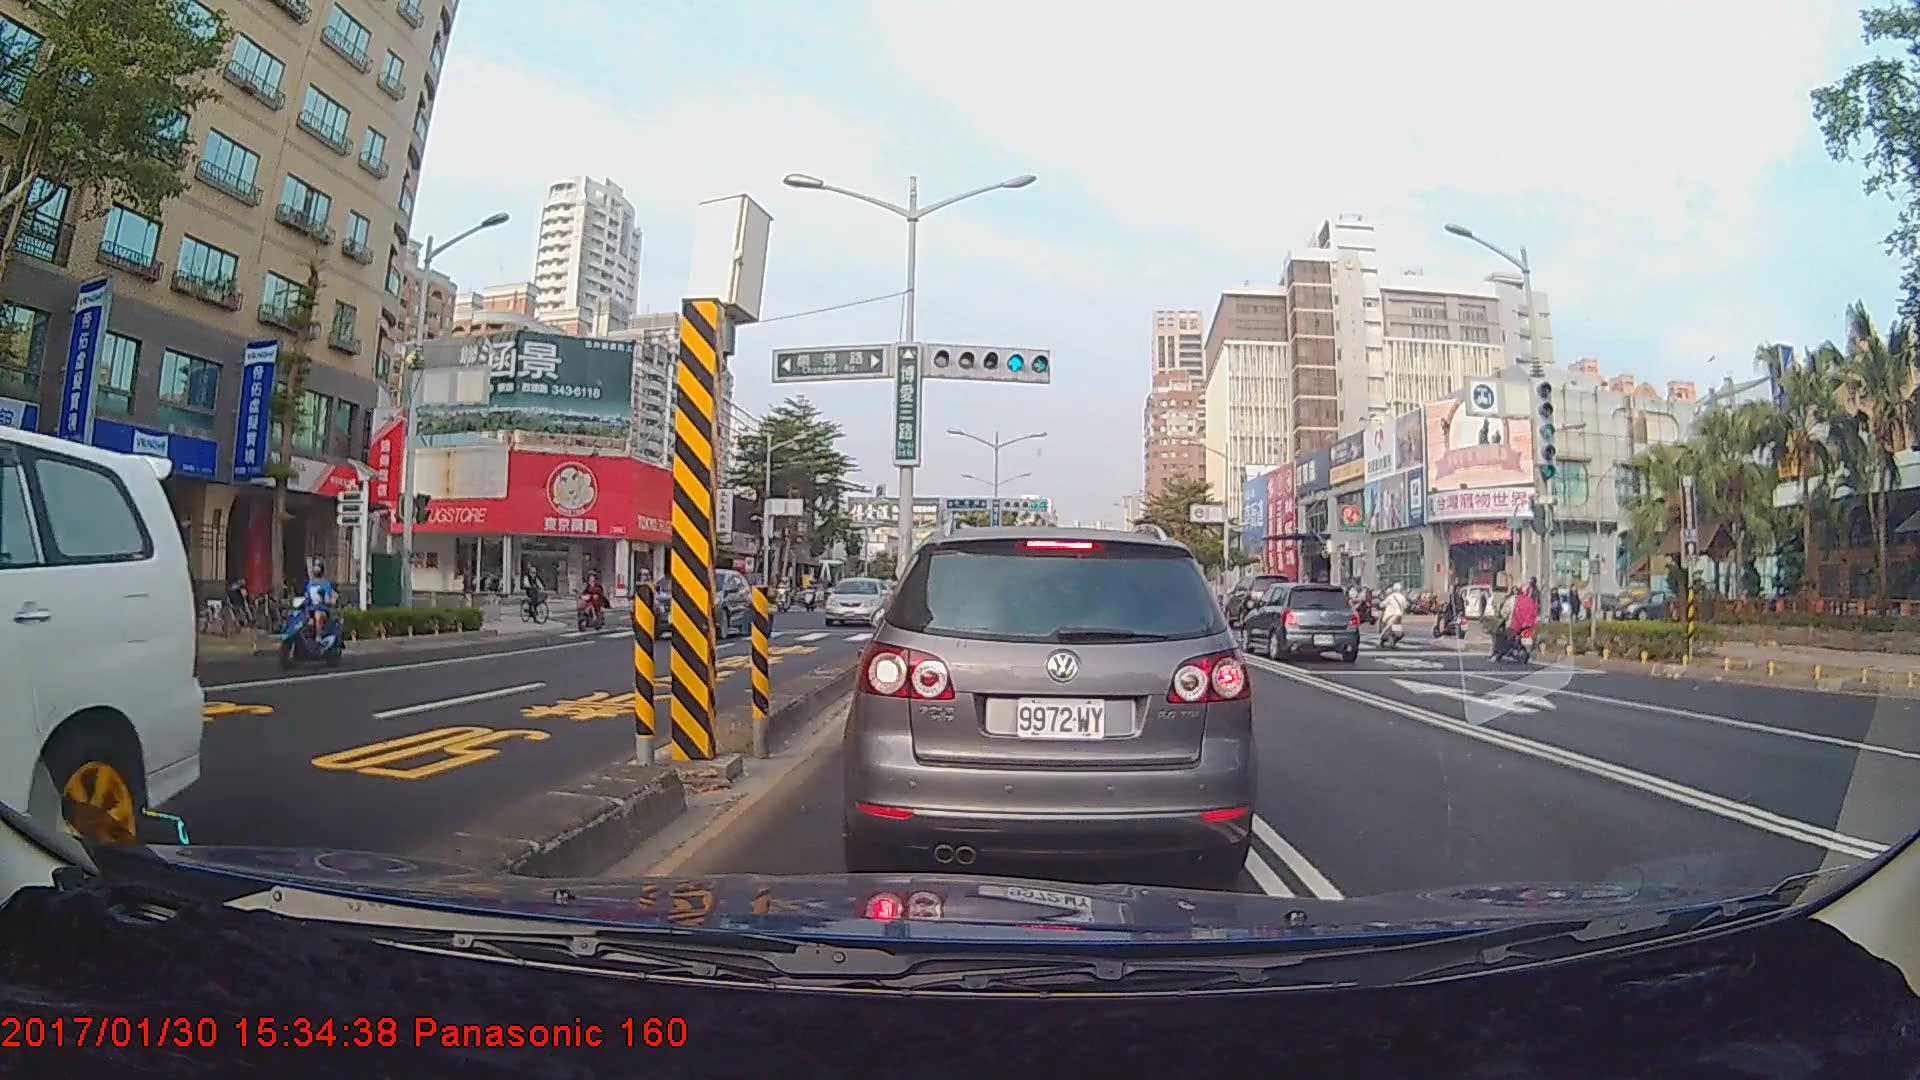rider: (1485, 582, 1548, 668), (570, 567, 616, 639), (518, 559, 561, 629), (1436, 582, 1473, 646), (1379, 584, 1411, 649)
vehicle: (853, 520, 1250, 883), (0, 420, 204, 906), (1238, 580, 1360, 662), (643, 567, 754, 639), (823, 574, 891, 625)
